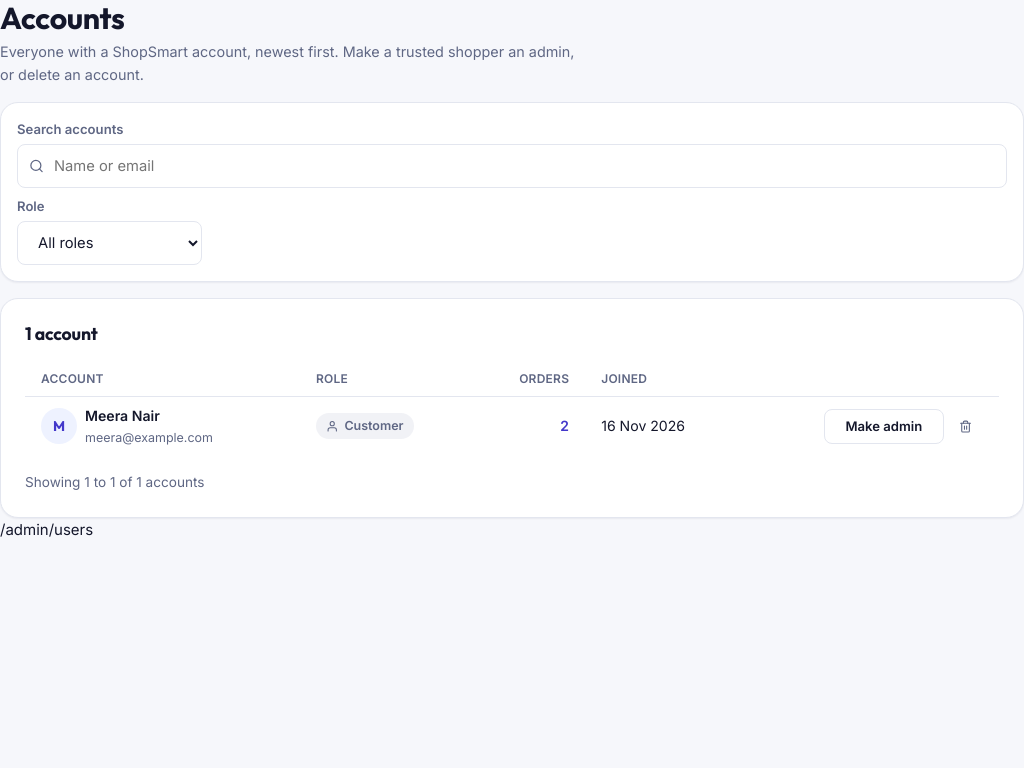
Test case: AdminUsers › makes a shopper an admin after asking
This screenshot has width=1024, height=768.
expect the text "meera@example.com" is shown: met, box [85,428,213,448]
What coordinates should you click on to do the following:
click the button "Make admin"
I would click on:
 (884, 426)
Its box is [824,409,944,444].
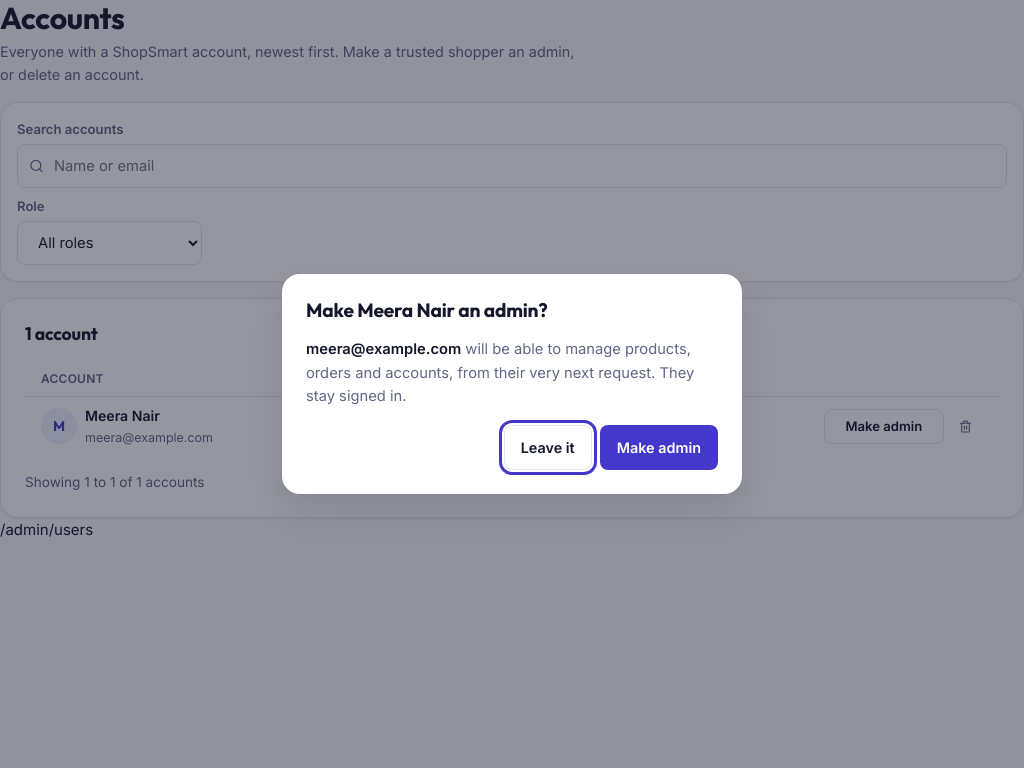
What coordinates should you click on to do the following:
click the button "Make admin"
I would click on:
 (659, 447)
Its box is [600,425,718,470].
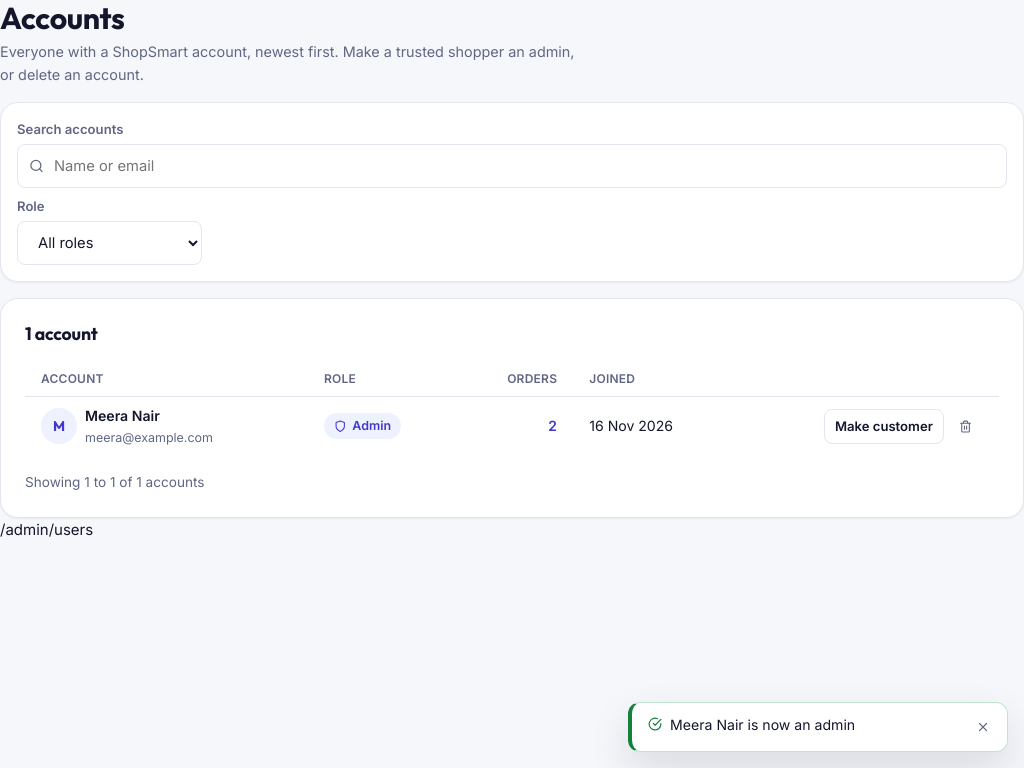
expect the text "Meera Nair is now an admin" is shown: met, box [670,716,855,733]
